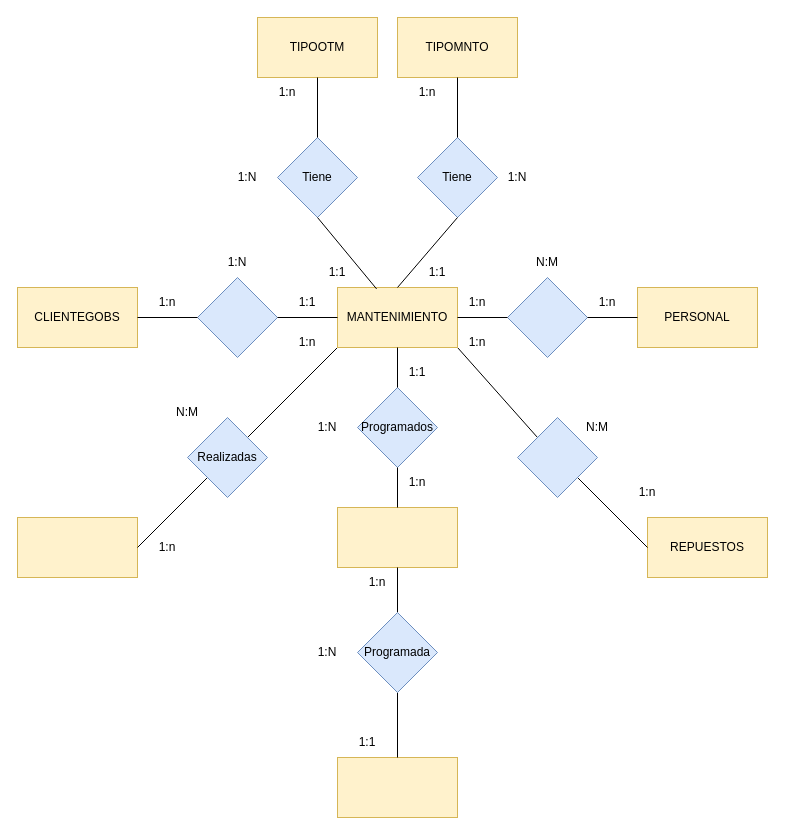
The diagram is 785 pixels wide and 835 high, and some of its shapes have lost their labels. The shapes that lost their labels are listed below. From the top down, each one's box as (x1, y1, x2, y2) in pixels, then its label:
(196, 276, 278, 358): Para
(506, 276, 588, 358): Ejecutado
(516, 416, 598, 498): Requieren
(16, 516, 138, 578): ACTIVIDADES
(336, 506, 458, 568): EQUIPOS
(336, 756, 458, 818): FECHAMNTO
